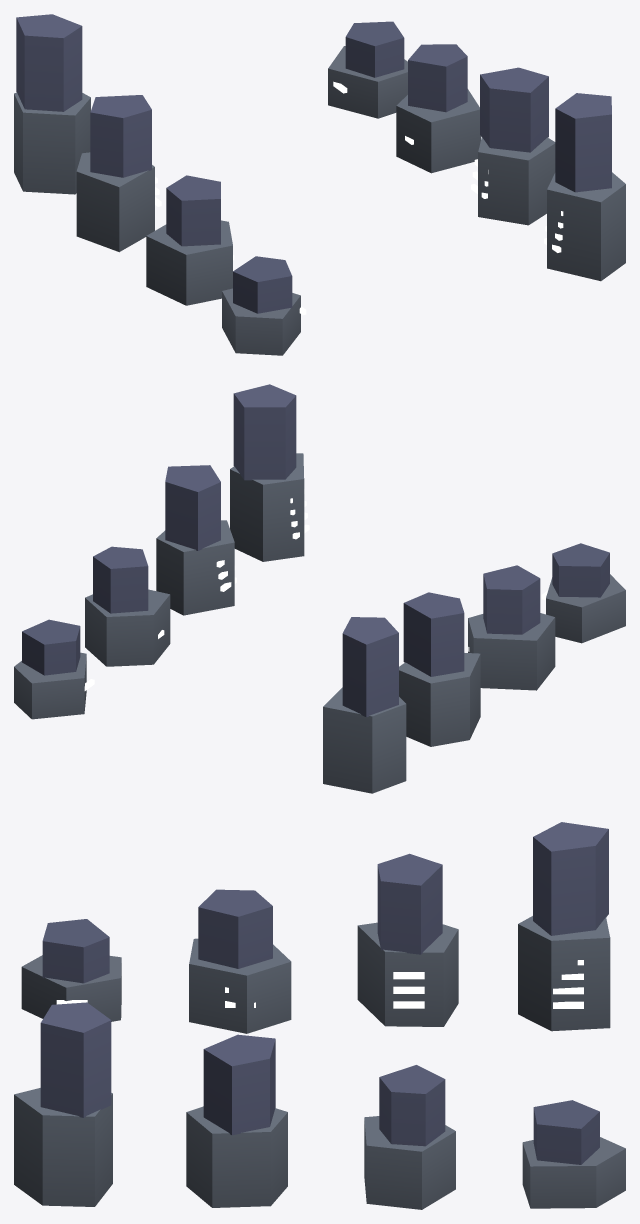
The model's file is landmark-r3-dynamics-canyon-far.glb.
3 renders of one model, top to bottom at view 1: azimuth 30°, elevation 25°; view 2: azimuth 150°, elevation 25°; view 3: azimuth 270°, elevation 25°, orthographic. The views are drawn at different scales.
Visible parts, largest first — view 1: Static_far, Glow_far; view 2: Static_far, Glow_far; view 3: Static_far, Glow_far.
Boxes of the visible parts, left/top/right/bottom form: Static_far: left=14, top=14, right=625, bottom=355; Glow_far: left=155, top=81, right=563, bottom=315; Static_far: left=14, top=384, right=625, bottom=793; Glow_far: left=84, top=489, right=548, bottom=690; Static_far: left=14, top=822, right=625, bottom=1209; Glow_far: left=56, top=960, right=583, bottom=1008.
Bounding box in the file's own units: 117 × 43.5 × 138.
